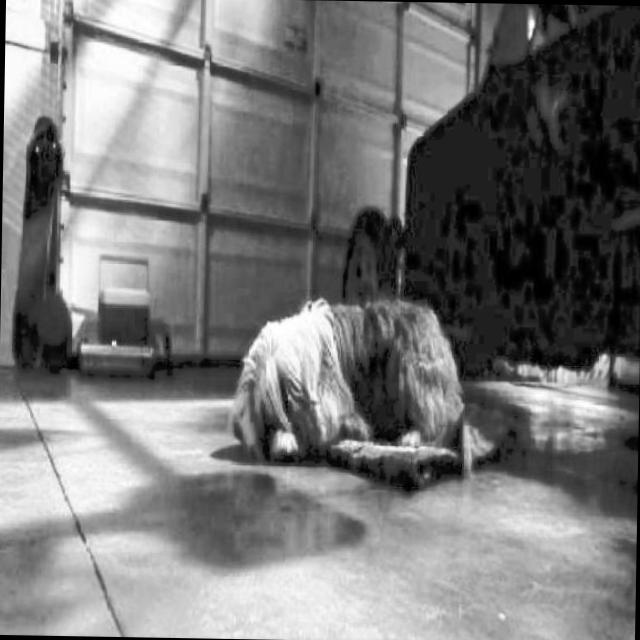Dog: (228, 274, 488, 493)
